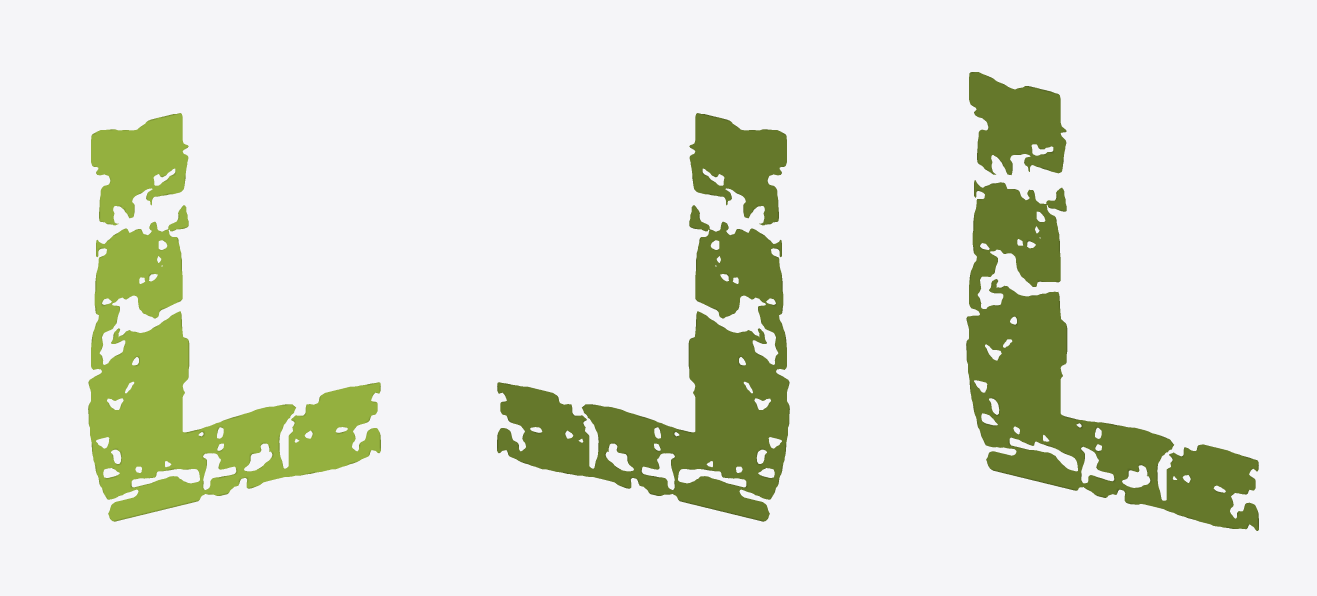
File: floor_l_sign.FBX
The picture shows the model from 3 angles, left to right: view 1: azimuth 30°, elevation 25°; view 2: azimuth 150°, elevation 25°; view 3: azimuth 330°, elevation 25°; orthographic projection.
Visible parts, largest first — view 1: floor_l_sign; view 2: floor_l_sign; view 3: floor_l_sign.
Part boxes in pixels (x1,y1,x2,y2): floor_l_sign: [88, 113, 380, 521]; floor_l_sign: [497, 113, 789, 521]; floor_l_sign: [966, 72, 1258, 530].
Bounding box in the file's own units: 41.08 × 44.76 × 1.3e-05.
